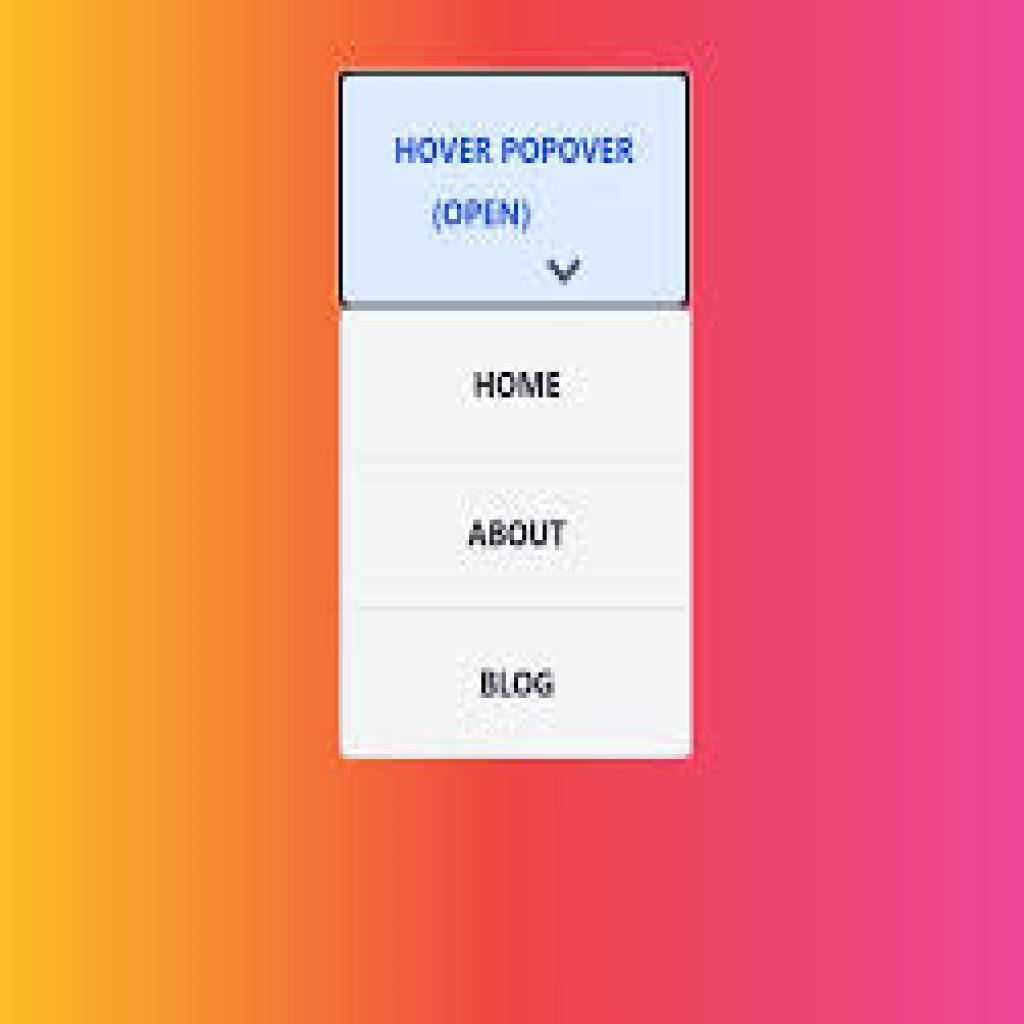dropdown: (338, 72, 692, 311)
